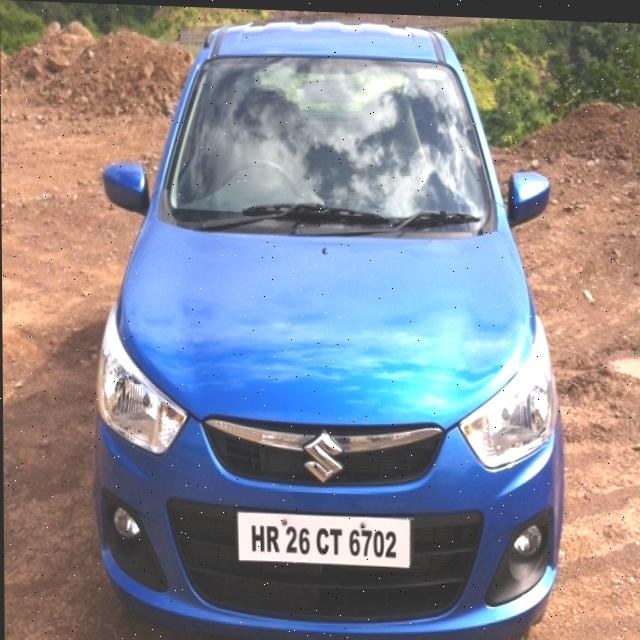plate: (234, 507, 412, 566)
